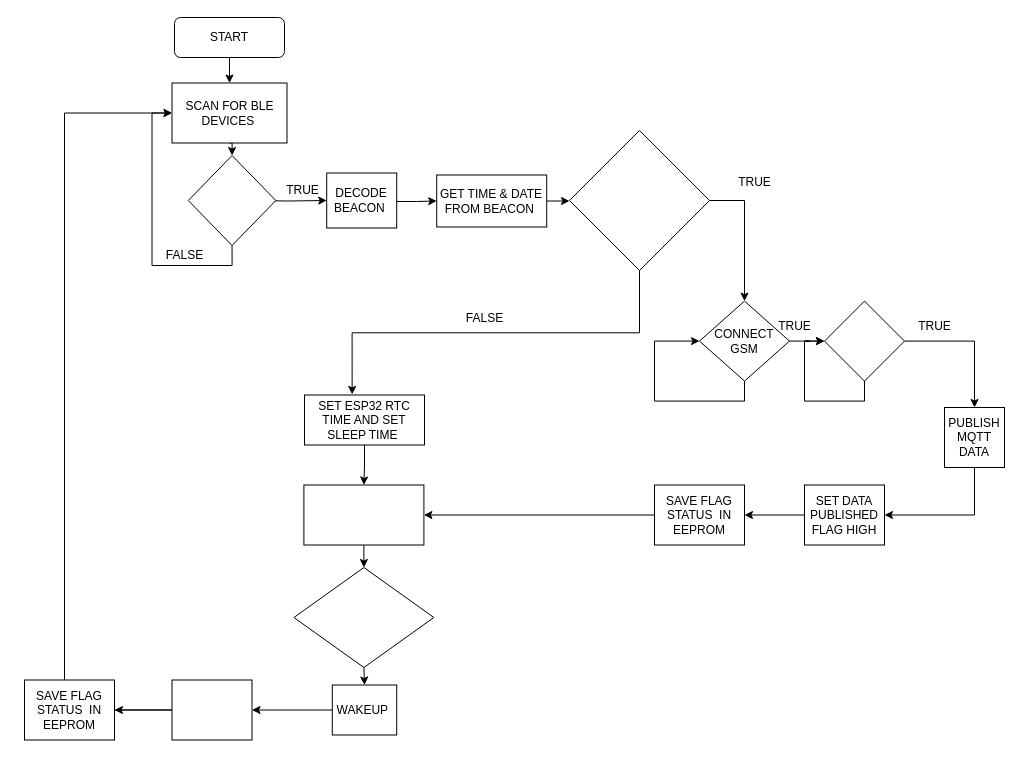
Image size: 1022x758. Some labels were removed from this diagram. The shapes that lost their labels are listed below. From the top down, each one's box as (x1, y1, x2, y2) in pixels, then its label:
(187, 154, 276, 246): IF SIM MINI FOUND
(568, 130, 710, 270): IF TIME >= 6:00 AM & DATA PUBLISHED FLAG IS LOW
(824, 300, 904, 381): CONNECT MQTT
(303, 484, 424, 545): GO TO DEEP SLEEP
(293, 566, 434, 668): IF RTC TIME= 6:00 AM
(171, 679, 252, 740): SET DATA PUBLISHED FLAG LOW
